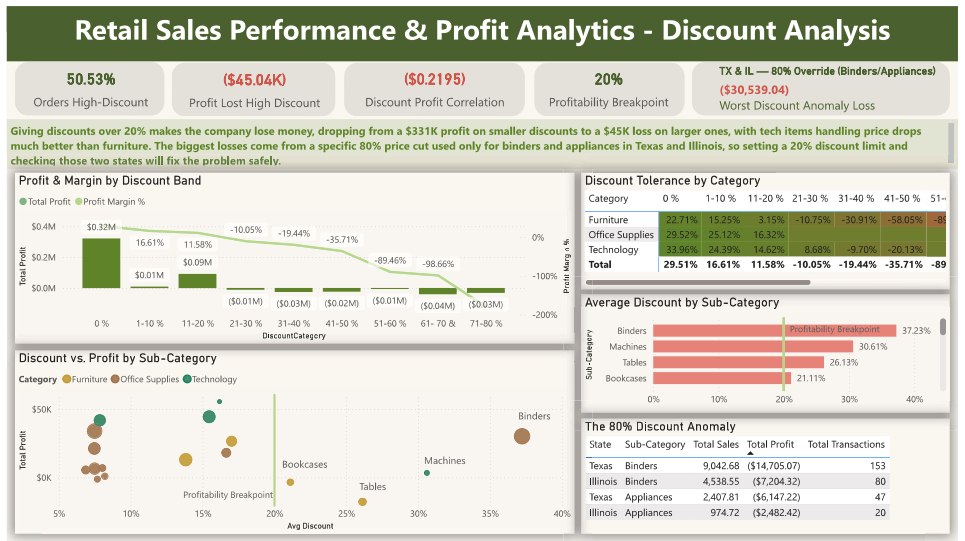

The dashboard page shown, as its layout file describes it:
{"tool":"powerbi","page":{"name":"Discount","canvas":[1280,720],"ordinal":4},"visuals":[{"type":"shape","box":[221.8,76.5,220.6,71.4],"z":0},{"type":"shape","box":[921.8,75.2,346.8,71.4],"z":1000},{"type":"shape","box":[453.9,76.5,243.5,71.4],"z":2000},{"type":"textbox","box":[0,0,1279.7,73.7],"z":3000},{"type":"shape","box":[11.5,75.2,200.2,71.4],"z":4000},{"type":"card","fields":{"Values":["Fact-Superstore.Profit Lost High Discount"]},"box":[237.1,75.2,192.5,68.8],"z":5000},{"type":"card","fields":{"Values":["Fact-Superstore.Discount Profit Correlation"]},"box":[475.5,72.7,200.2,71.4],"z":6000},{"type":"card","fields":{"Values":["Fact-Superstore.Orders High-Discount"]},"box":[19.1,72.7,187.4,71.4],"z":7000},{"type":"textbox","box":[0,151.7,1280,67.6],"z":8000},{"type":"lineClusteredColumnComboChart","title":"Profit & Margin by Discount Band","fields":{"Y":["Fact-Superstore.Total Profit"],"Category":["Dim-Discount.DiscountCategory"],"Y2":["Fact-Superstore.Profit Margin %"]},"box":[11.5,224.4,752.2,229.5],"z":9000},{"type":"pivotTable","title":"Discount Tolerance by Category","fields":{"Values":["Fact-Superstore.Profit Margin %"],"Rows":["Dim-Category.Category"],"Columns":["Dim-Discount.DiscountCategory"]},"box":[772.6,224.4,495.9,156.8],"z":10000},{"type":"tableEx","title":"The 80% Discount Anomaly","fields":{"Values":["Dim-State.State","Dim-SubCategory.Sub-Category","Fact-Superstore.Total Sales","Fact-Superstore.Total Profit","Fact-Superstore.Total Transactions"]},"box":[772.6,554.6,495.9,155.5],"z":11000},{"type":"shape","box":[710.1,76.5,201.4,71.4],"z":12000},{"type":"card","fields":{"Values":["Fact-Superstore.Profitability Breakpoint"]},"box":[710.1,72.7,200.2,71.4],"z":13000},{"type":"multiRowCard","fields":{"Values":["Fact-Superstore.Worst Discount Anomaly","Fact-Superstore.Worst Discount Anomaly Loss"]},"box":[953.6,73.9,300.9,80.3],"z":14000},{"type":"barChart","title":"Average Discount by Sub-Category","fields":{"Category":["Dim-SubCategory.Sub-Category"],"Y":["Fact-Superstore.Avg Discount"]},"box":[772.6,387.6,495.9,159.4],"z":15000},{"type":"scatterChart","title":"Discount vs. Profit by Sub-Category","fields":{"Category":["Dim-SubCategory.Sub-Category"],"Size":["CountNonNull(Fact-Superstore.OrderID)"],"X":["Fact-Superstore.Avg Discount"],"Y":["Fact-Superstore.Total Profit"],"Series":["Dim-Category.Category"]},"box":[11.5,462.8,752.2,247.3],"z":16000},{"type":"textbox","box":[359.5,601.8,82.9,30.6],"z":17000},{"type":"textbox","box":[451.3,632.4,82.9,29.3],"z":18000},{"type":"textbox","box":[548.2,596.7,82.9,29.3],"z":19000},{"type":"textbox","box":[669.3,536.7,81.6,29.3],"z":20000}]}

Visuals, with their boxes in screenshot pixels (x1, y1, x2, y2), scaled from the page's 1280x720 canvas onto the 965x541 screenshot:
shape: left=167, top=57, right=334, bottom=111
shape: left=695, top=57, right=956, bottom=110
shape: left=342, top=57, right=526, bottom=111
textbox: left=0, top=0, right=964, bottom=55
shape: left=9, top=57, right=160, bottom=110
card - Fact-Superstore.Profit Lost High Discount: left=179, top=57, right=324, bottom=108
card - Fact-Superstore.Discount Profit Correlation: left=358, top=55, right=509, bottom=108
card - Fact-Superstore.Orders High-Discount: left=14, top=55, right=156, bottom=108
textbox: left=0, top=114, right=964, bottom=165
"Profit & Margin by Discount Band" lineClusteredColumnComboChart: left=9, top=169, right=576, bottom=341
"Discount Tolerance by Category" pivotTable: left=582, top=169, right=956, bottom=286
"The 80% Discount Anomaly" tableEx: left=582, top=417, right=956, bottom=534
shape: left=535, top=57, right=687, bottom=111
card - Fact-Superstore.Profitability Breakpoint: left=535, top=55, right=686, bottom=108
multiRowCard - Fact-Superstore.Worst Discount Anomaly x Fact-Superstore.Worst Discount Anomaly Loss: left=719, top=56, right=946, bottom=116
"Average Discount by Sub-Category" barChart: left=582, top=291, right=956, bottom=411
"Discount vs. Profit by Sub-Category" scatterChart: left=9, top=348, right=576, bottom=534
textbox: left=271, top=452, right=334, bottom=475
textbox: left=340, top=475, right=403, bottom=497
textbox: left=413, top=448, right=476, bottom=470
textbox: left=505, top=403, right=566, bottom=425
